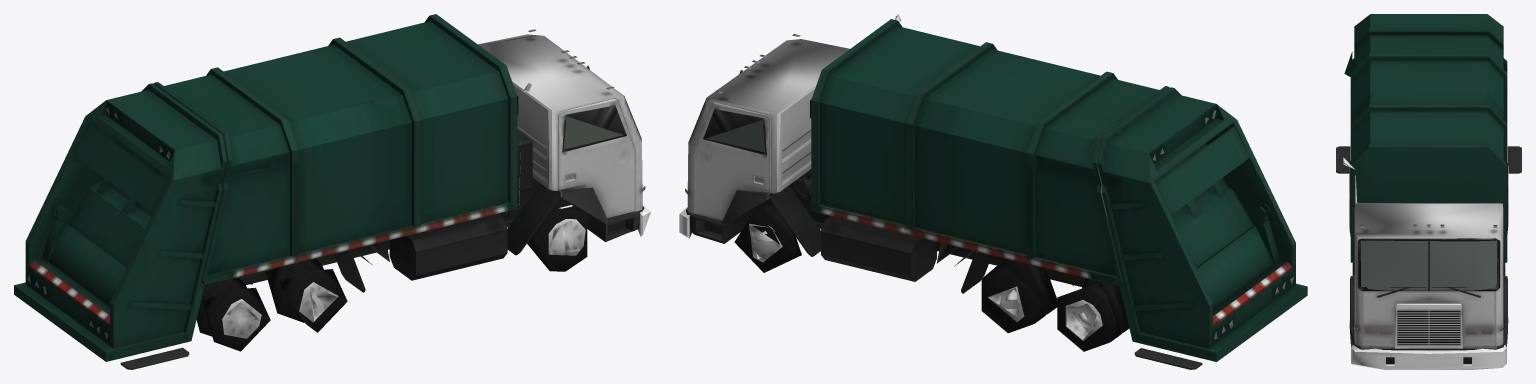
The model's file is civ-garbage.lod1.glb.
3 views of the same model, side by side, from view 1: azimuth 30°, elevation 25°; view 2: azimuth 150°, elevation 25°; view 3: azimuth 270°, elevation 25° (orthographic). The views are drawn at different scales.
Parts seen in each view (by area): view 1: garbage_truck_garbagetruck_tex_0, garbage_truck_garbagetruck_glass_0; view 2: garbage_truck_garbagetruck_tex_0, garbage_truck_garbagetruck_glass_0; view 3: garbage_truck_garbagetruck_tex_0, garbage_truck_garbagetruck_glass_0.
Boxes of the visible parts, x1,y1,x2,y2 form: garbage_truck_garbagetruck_tex_0: (14,14,650,369); garbage_truck_garbagetruck_glass_0: (27,29,645,339); garbage_truck_garbagetruck_tex_0: (679,14,1307,369); garbage_truck_garbagetruck_glass_0: (685,34,1294,339); garbage_truck_garbagetruck_tex_0: (1336,14,1521,369); garbage_truck_garbagetruck_glass_0: (1354,224,1503,334).
Size of the model in its own units: 7.65 by 2.8 by 2.62.
Materials: 2 (1 with a texture image).
